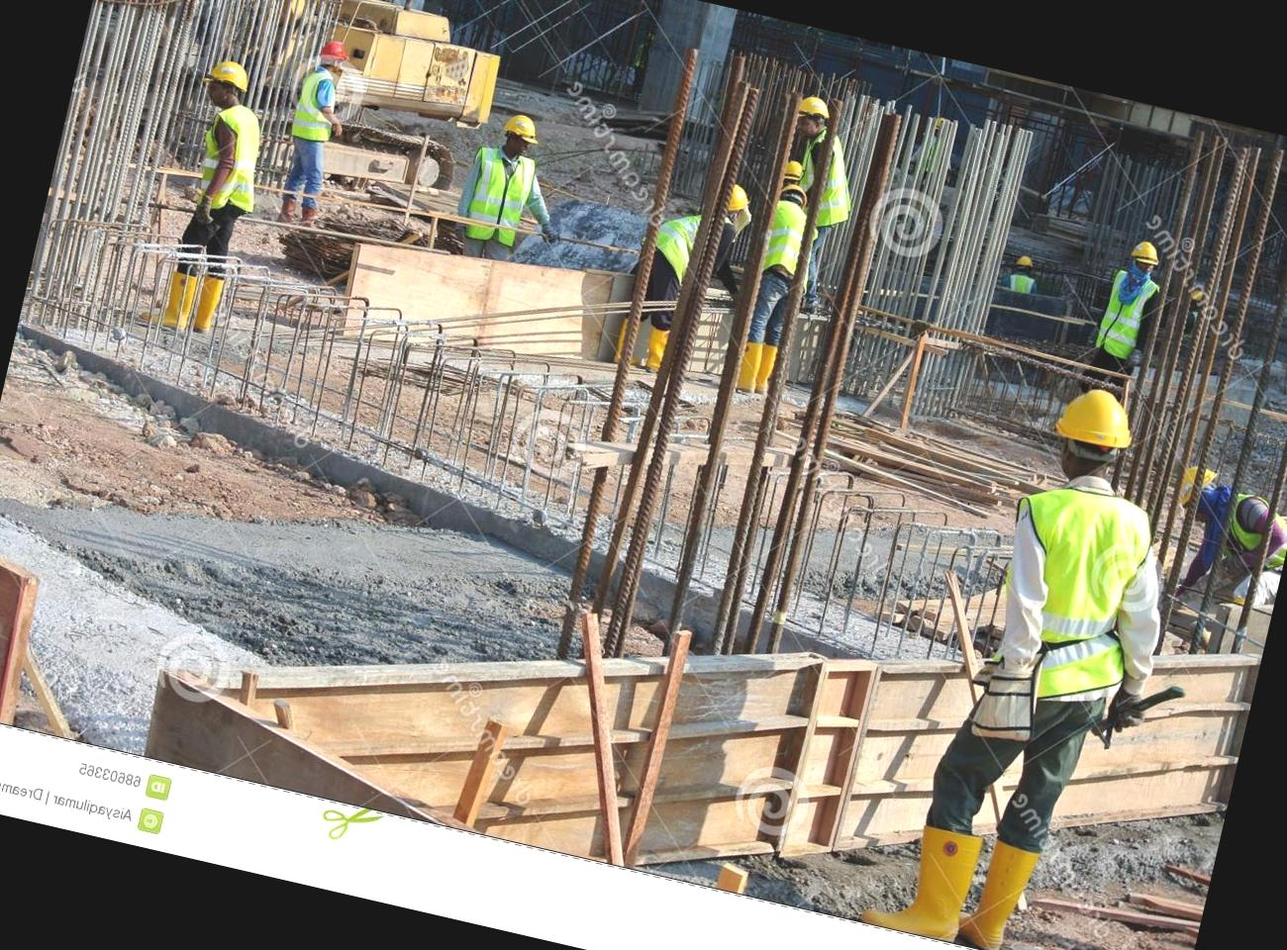helmet: (1042, 376, 1146, 465), (205, 49, 261, 101), (495, 103, 545, 149), (1123, 228, 1167, 270), (795, 85, 833, 126)
person: (883, 357, 1221, 950), (133, 41, 279, 342), (256, 19, 371, 238), (442, 94, 576, 276), (1079, 225, 1186, 392)
